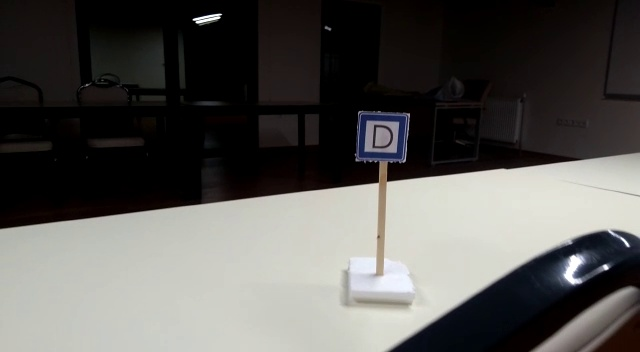durak: (354, 112, 411, 160)
